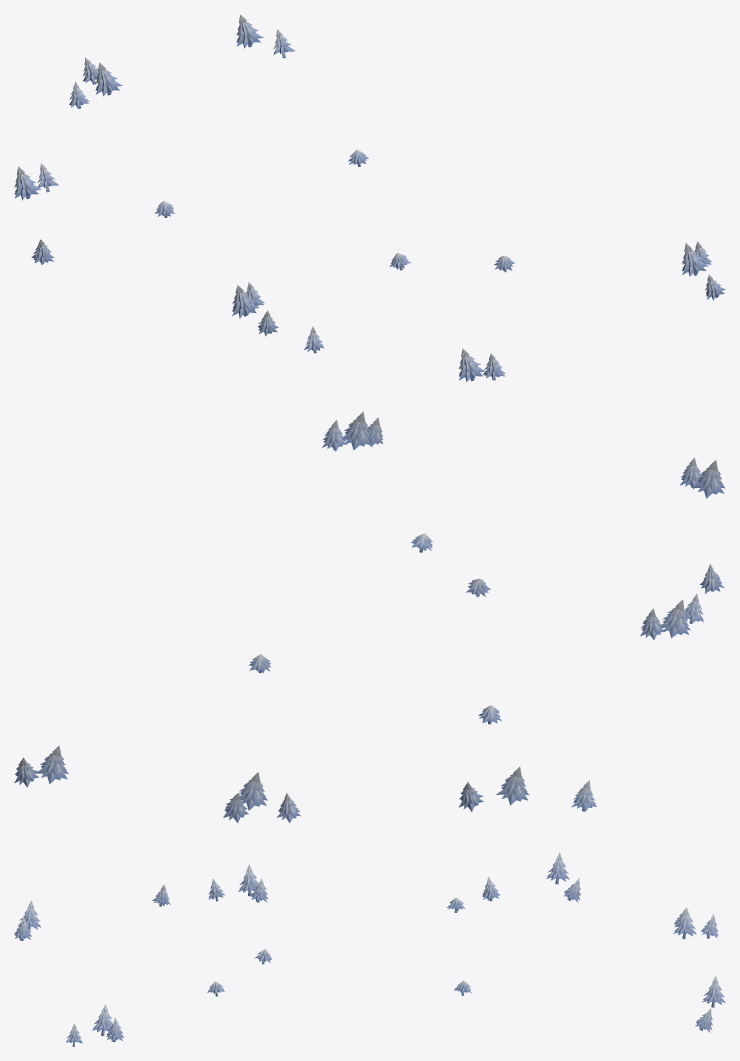
File: MSH_Nature_Pines.FBX
3 renders of one model, top to bottom at view 1: azimuth 30°, elevation 25°; view 2: azimuth 150°, elevation 25°; view 3: azimuth 270°, elevation 25°, orthographic. The views are drawn at different scales.
Visible parts, largest first — view 1: Nature_Pines; view 2: Nature_Pines; view 3: Nature_Pines.
Boxes of the visible parts, x1,y1,x2,y2 form: Nature_Pines: (14,14,725,382); Nature_Pines: (14,411,725,823); Nature_Pines: (14,852,725,1046).
Size of the model in its own units: 32.15 by 5.61 by 50.43.
